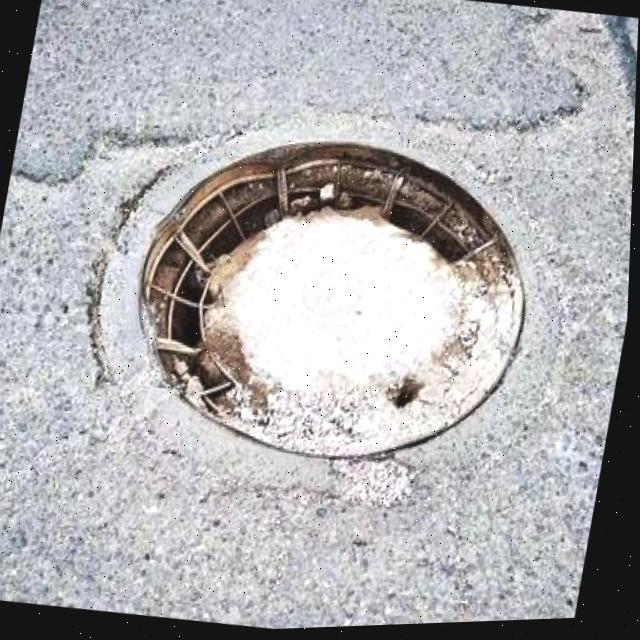manhole: (102, 97, 562, 496)
